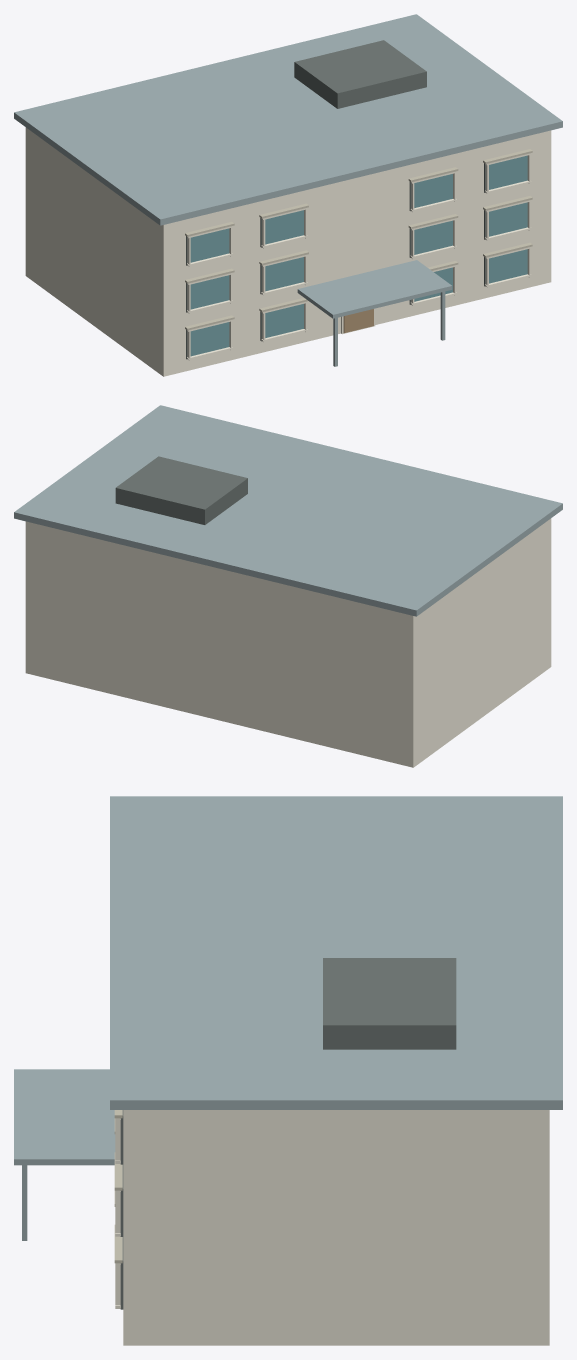
3 renders of one model, top to bottom at view 1: azimuth 30°, elevation 25°; view 2: azimuth 150°, elevation 25°; view 3: azimuth 270°, elevation 25°, orthographic. The views are drawn at different scales.
Bounding box in the file's own units: 27 × 11.4 × 20.6.
